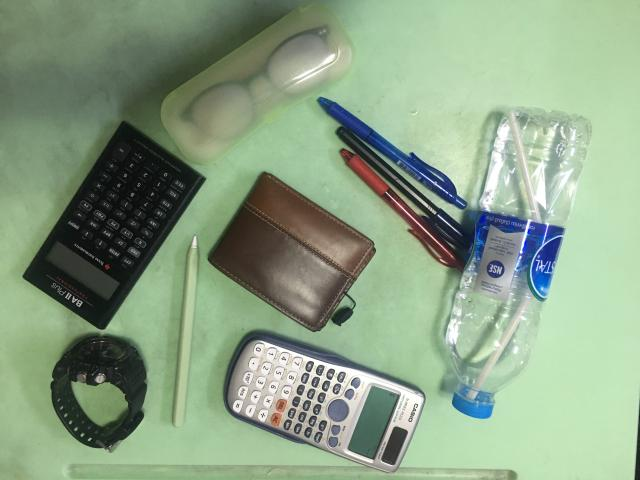Glasses: (161, 2, 352, 164)
Pen: (320, 99, 466, 269)
Wallet: (209, 172, 375, 331)
Watch: (51, 338, 146, 452)
bottle: (446, 108, 591, 419)
